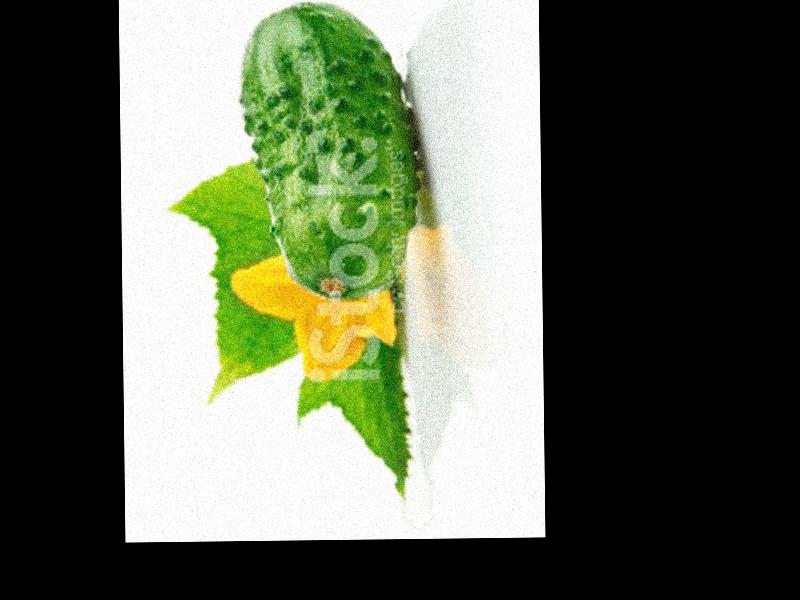Cucumber: (239, 0, 418, 296)
